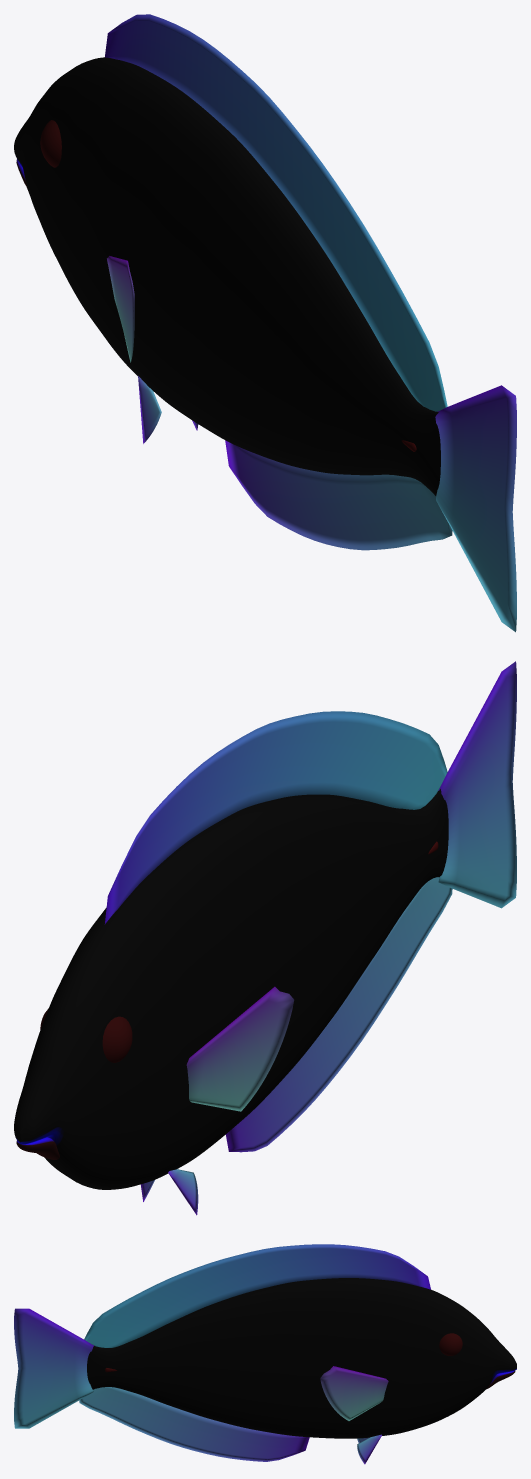
Rendered from blue_tang.glb.
3 renders of one model, top to bottom at view 1: azimuth 30°, elevation 25°; view 2: azimuth 150°, elevation 25°; view 3: azimuth 270°, elevation 25°, orthographic. The views are drawn at different scales.
Parts seen in each view (by area): view 1: blue_tang; view 2: blue_tang; view 3: blue_tang.
Part boxes in pixels (x1=…): blue_tang: x1=14, y1=14, x2=516, y2=632; blue_tang: x1=14, y1=661, x2=516, y2=1215; blue_tang: x1=14, y1=1244, x2=516, y2=1464.
Bounding box in the file's own units: 0.0453 × 0.1165 × 0.2438.
